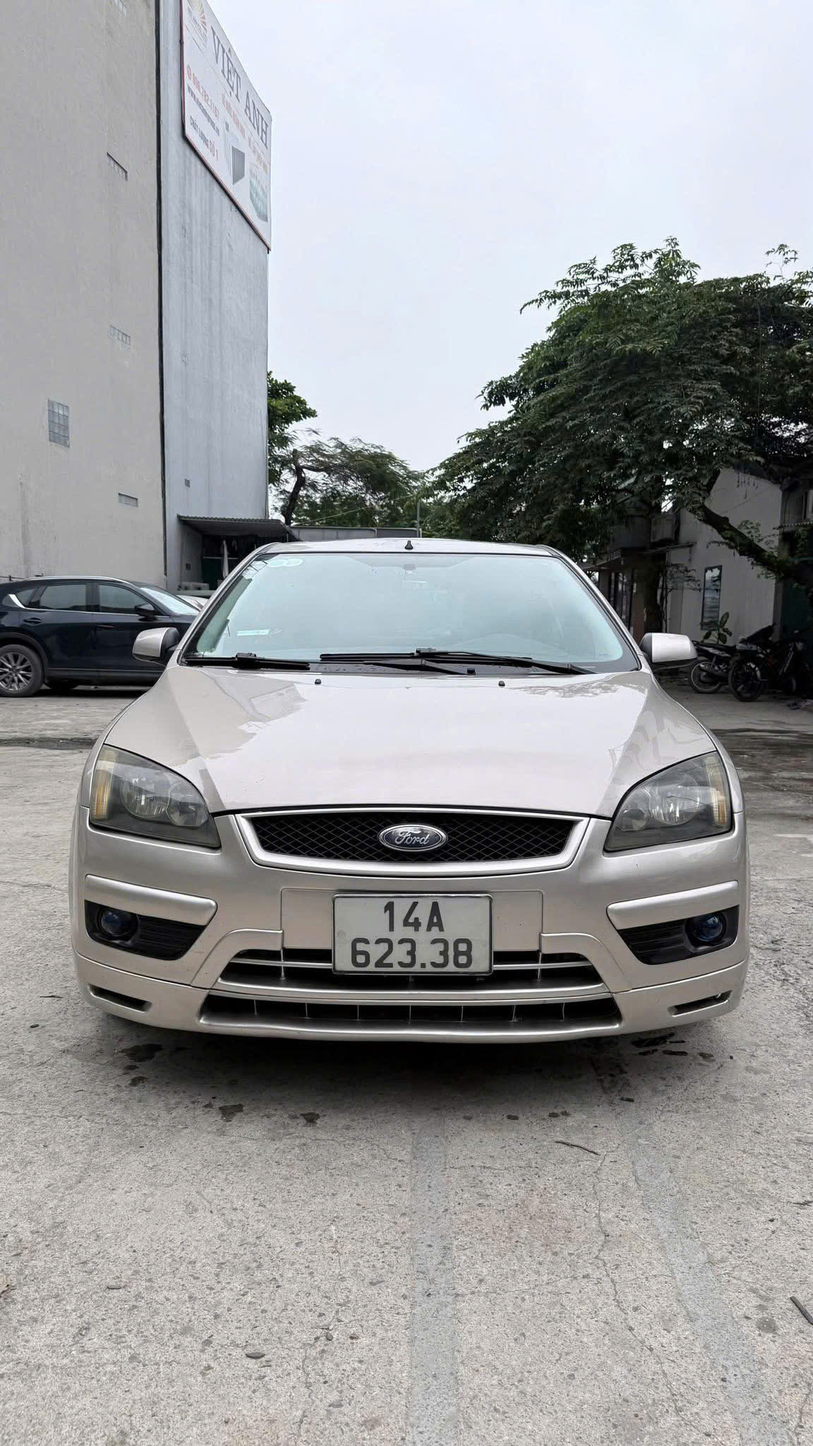Bien-so: (336, 894, 497, 969)
